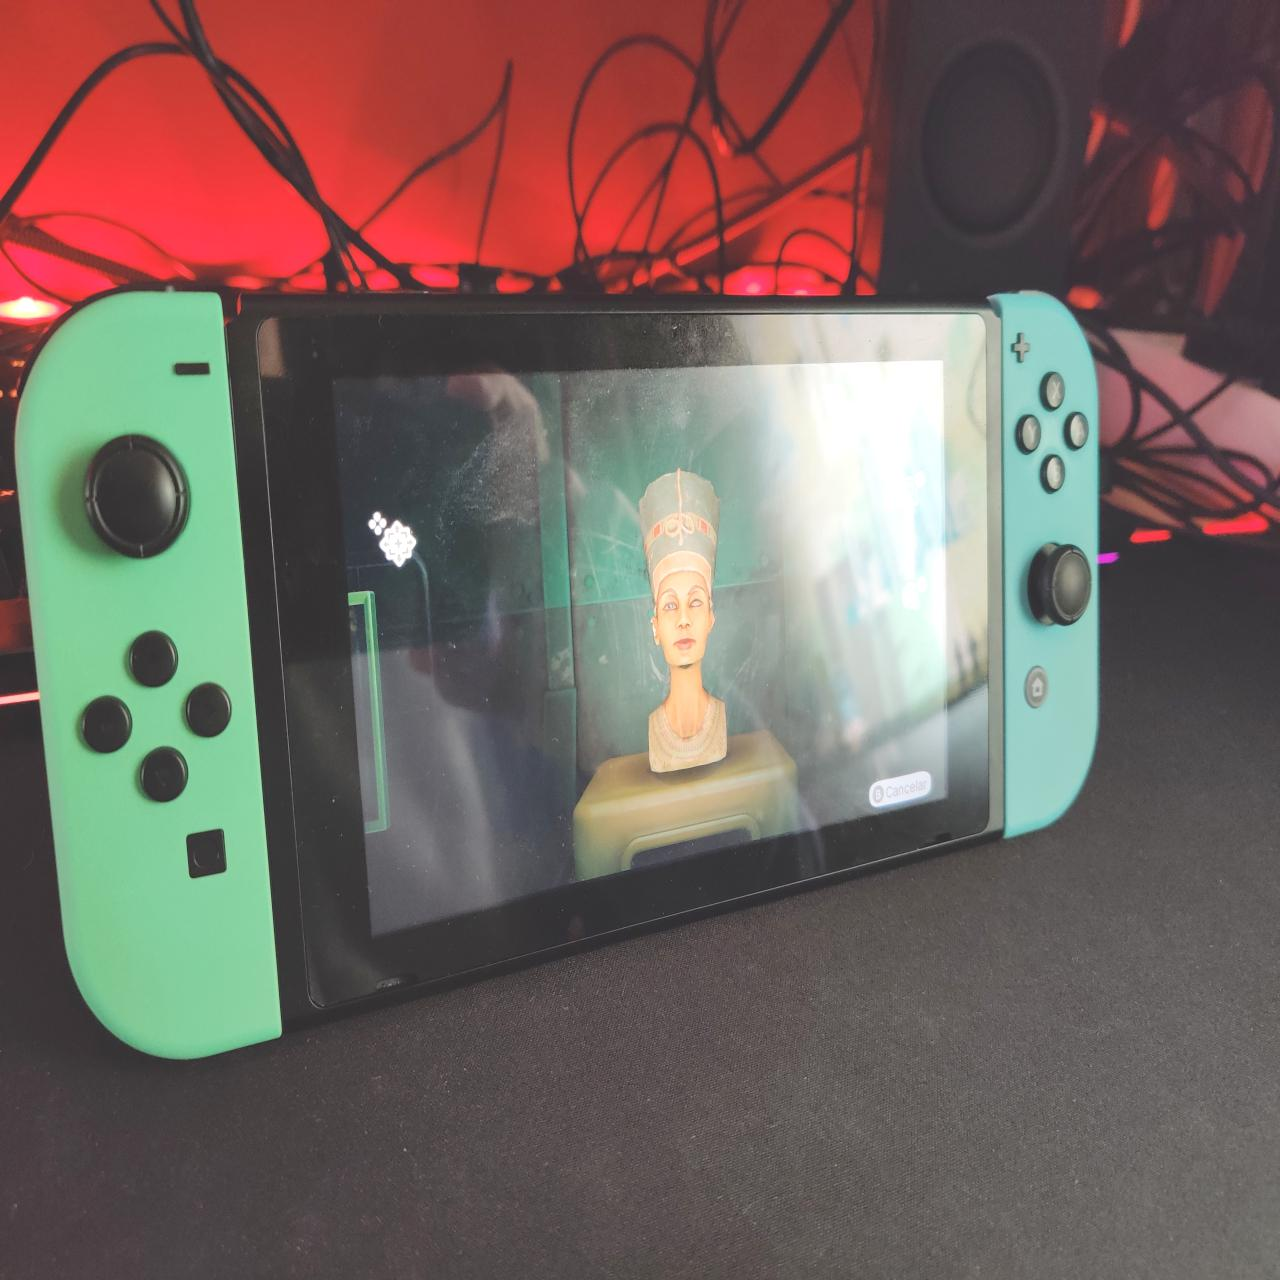Nefertiti: (636, 467, 731, 776)
